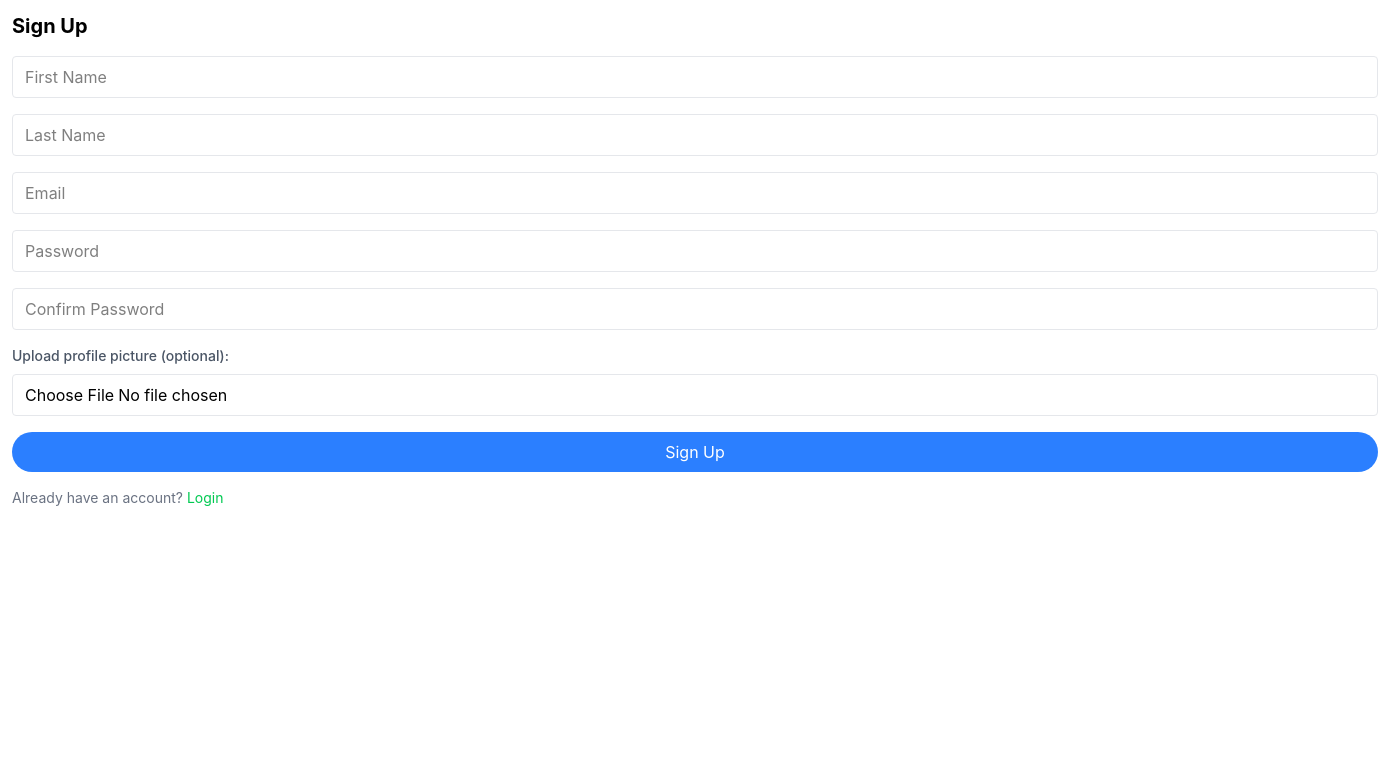
SignupForm › shows the error message when signup fails
The image size is (1390, 780).
In the field with placeholder "First Name": (695, 77) x1=12 y1=56 x2=1378 y2=98, type "Jane"
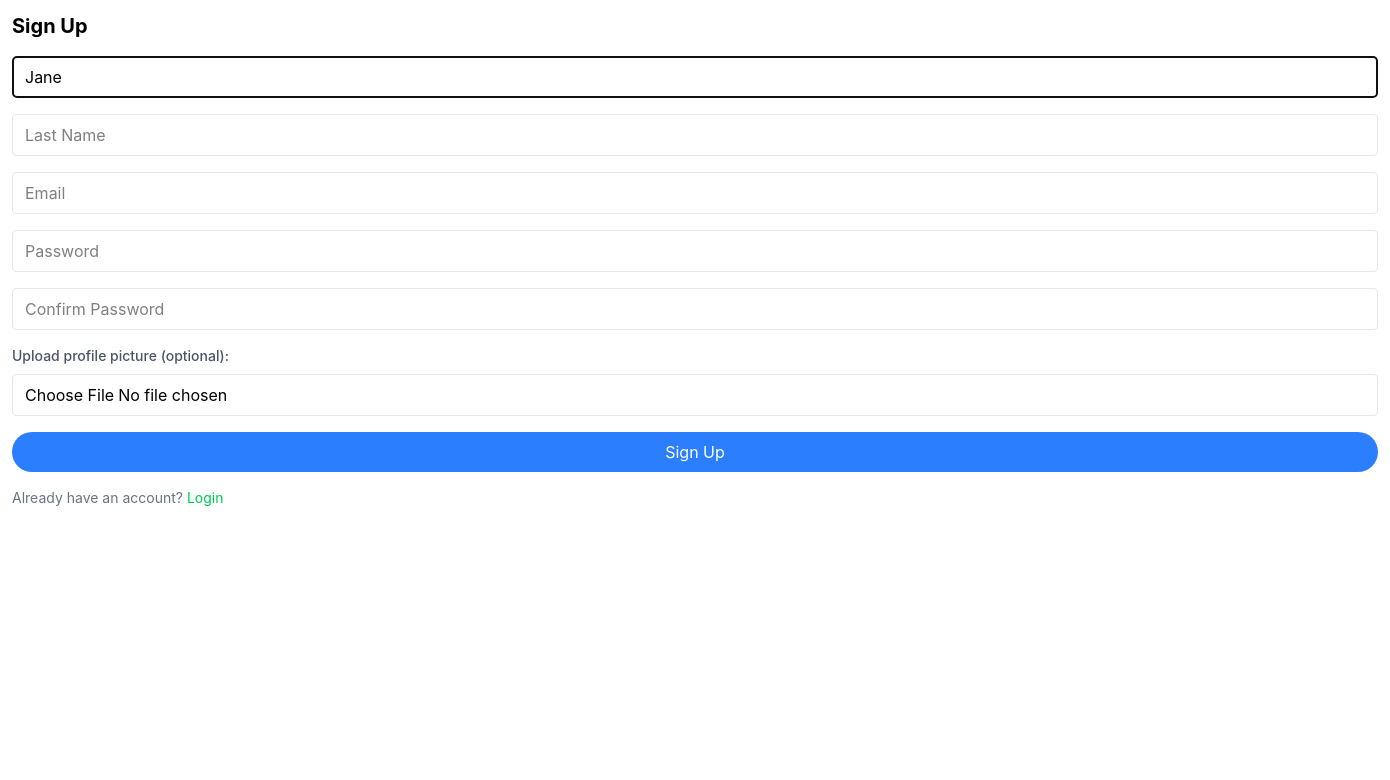
In the field with placeholder "Last Name": (695, 135) x1=12 y1=114 x2=1378 y2=156, type "Doe"
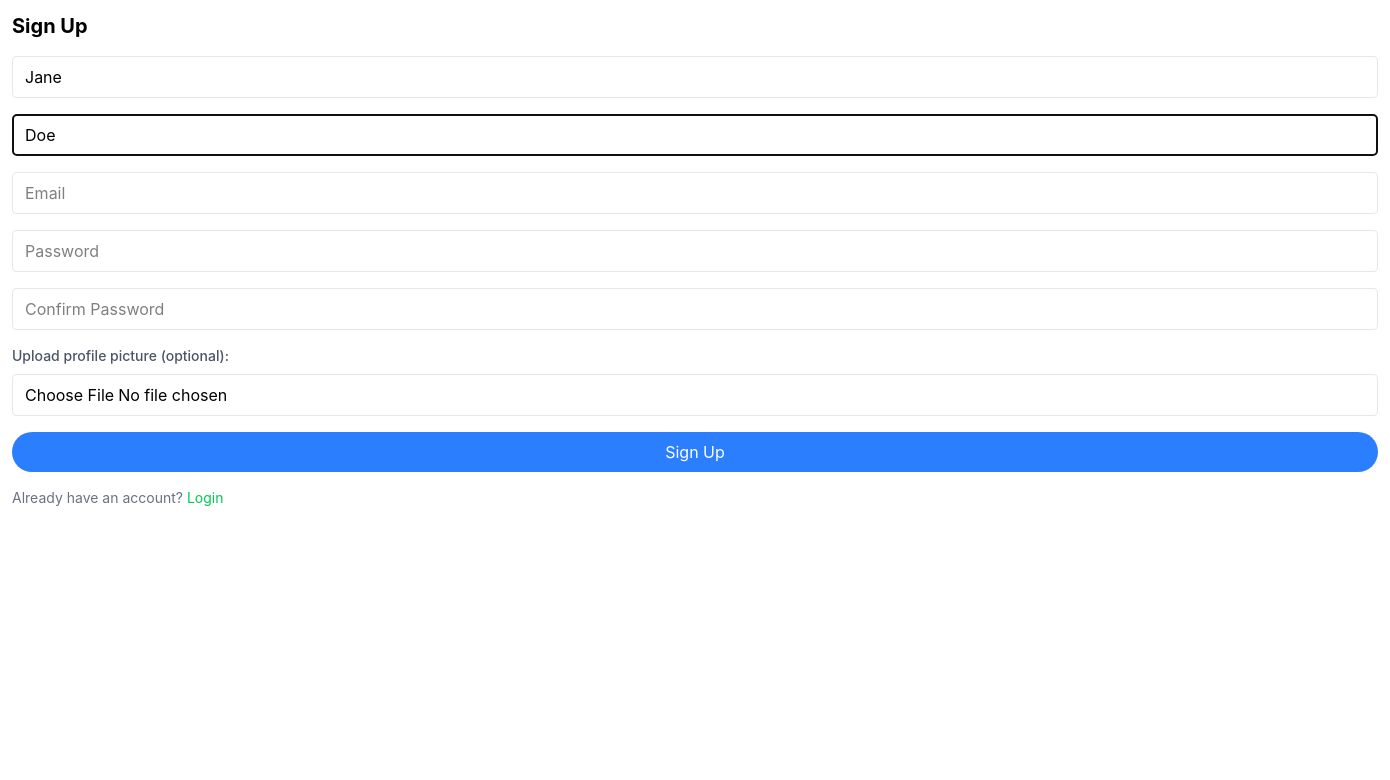
In the field with placeholder "Email": (695, 193) x1=12 y1=172 x2=1378 y2=214, type "jane@example.com"
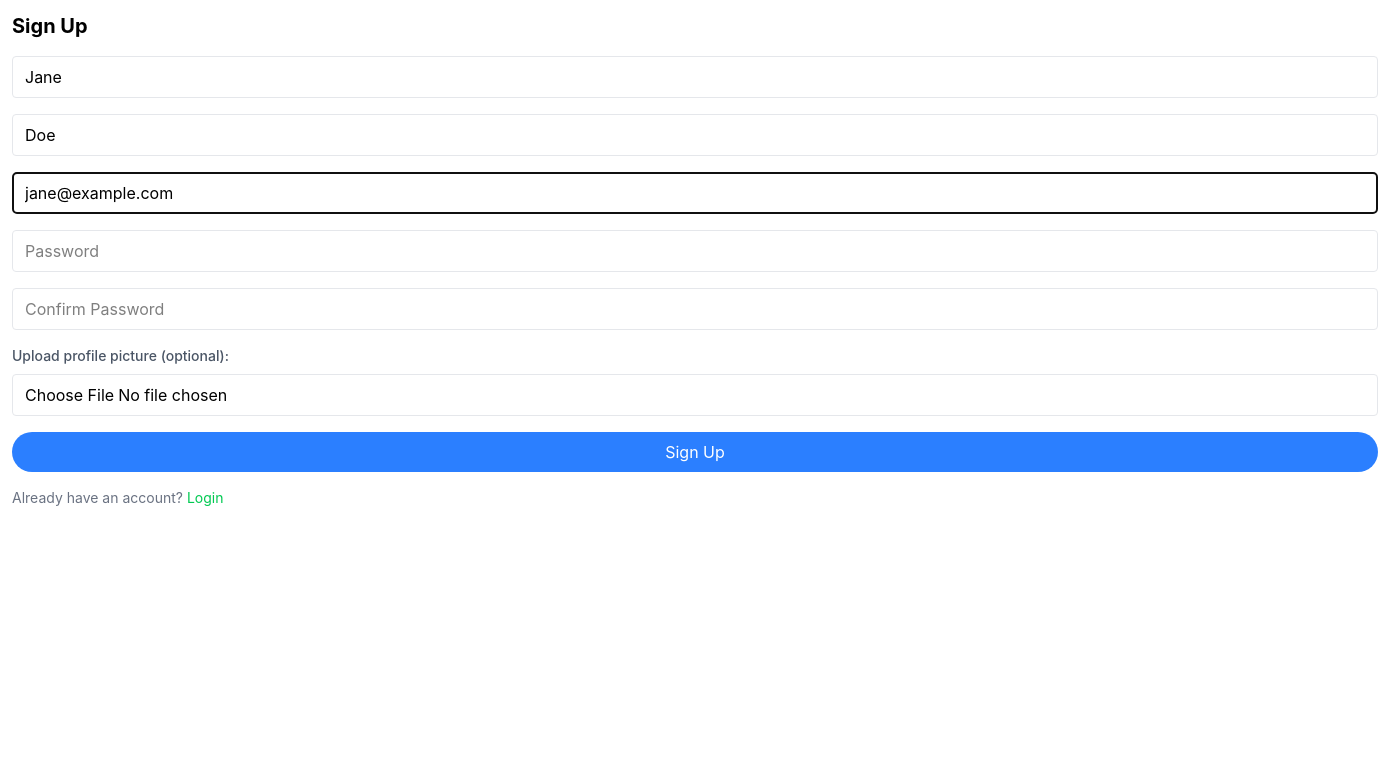
In the password field with placeholder "Password": (695, 251) x1=12 y1=230 x2=1378 y2=272, type "secret123"
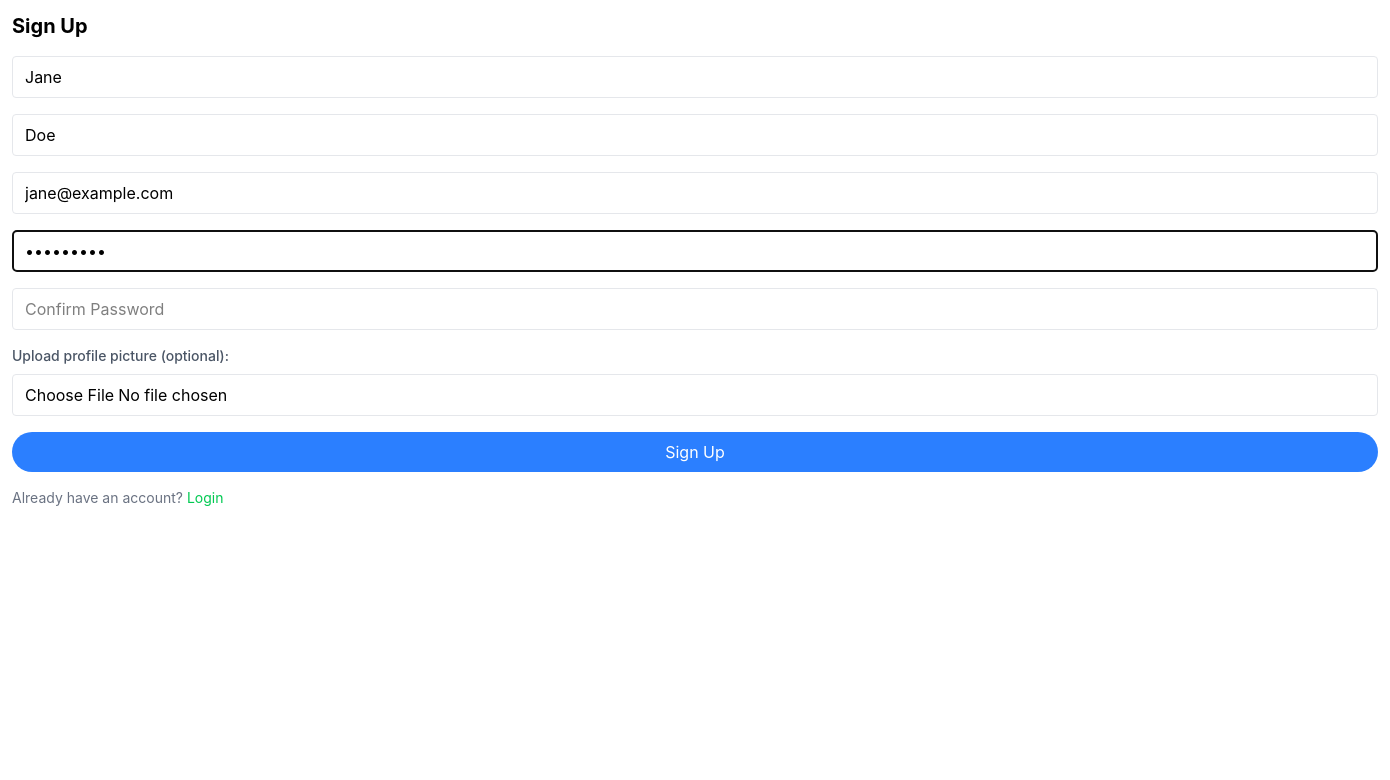
In the password field with placeholder "Confirm Password": (695, 309) x1=12 y1=288 x2=1378 y2=330, type "secret123"
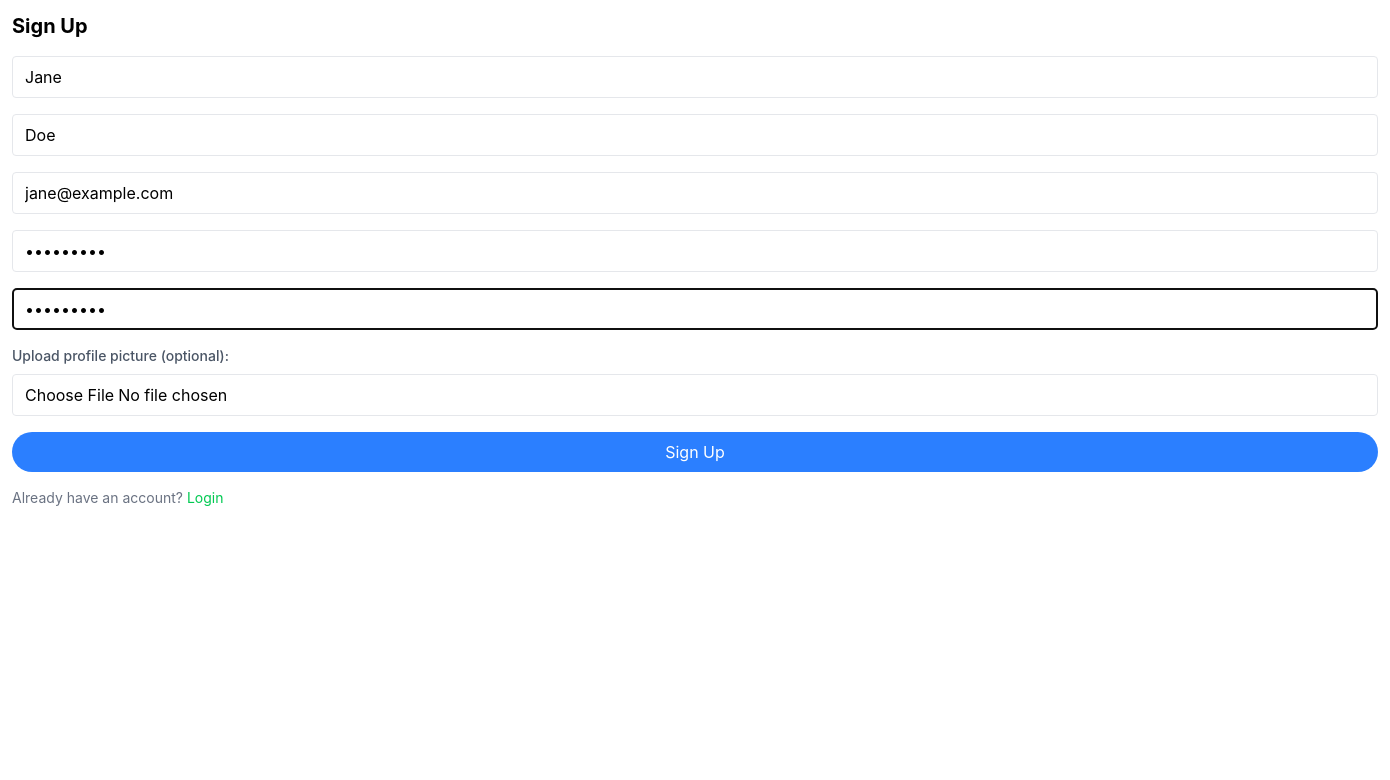
Click the button "Sign Up": (695, 452) x1=12 y1=432 x2=1378 y2=472
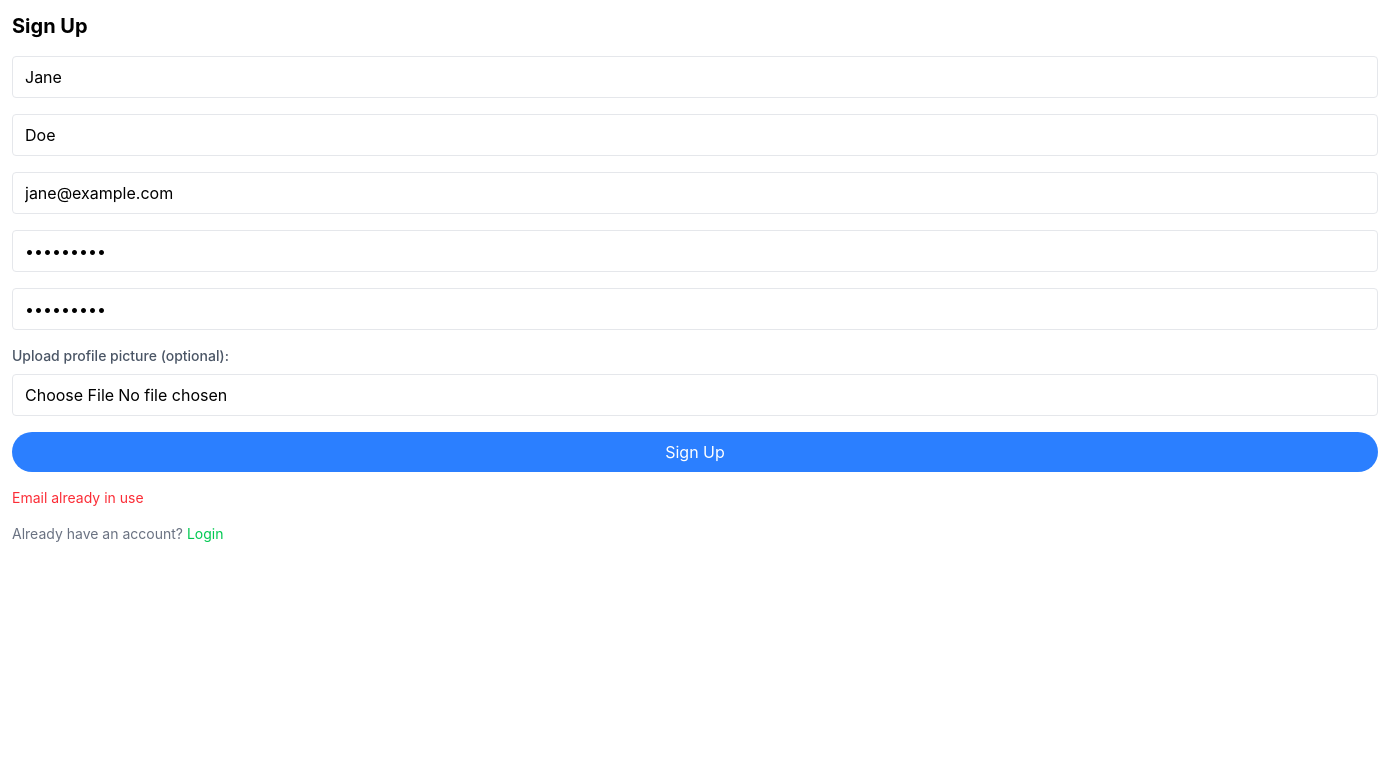
Expected: the text "Email already in use" is shown, x1=12 y1=489 x2=144 y2=506
